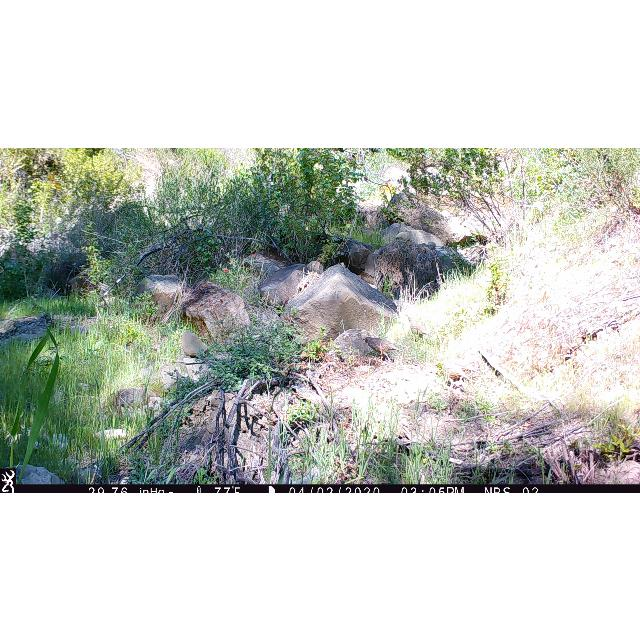animals: (364, 332, 402, 360)
